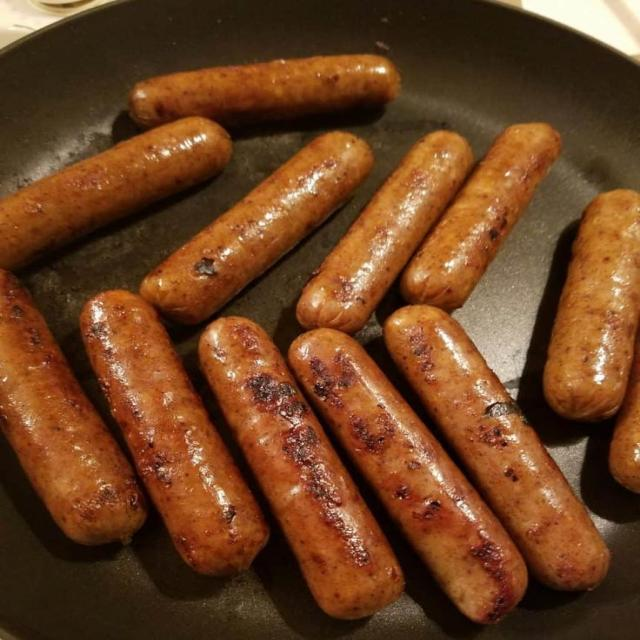sausage: (289, 329, 527, 623), (385, 306, 609, 590), (200, 318, 403, 618), (80, 291, 268, 575), (140, 132, 373, 323), (0, 270, 146, 544), (297, 131, 473, 333), (0, 118, 231, 269), (401, 124, 560, 309), (544, 190, 639, 421), (129, 55, 399, 127), (609, 342, 639, 492)
